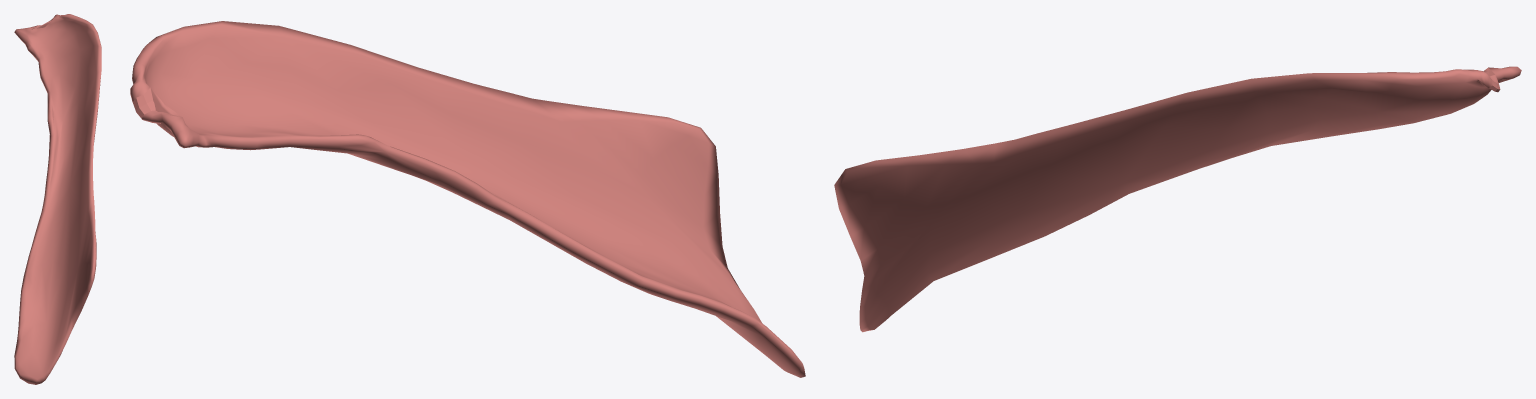
The picture shows the model from 3 angles, left to right: view 1: azimuth 30°, elevation 25°; view 2: azimuth 150°, elevation 25°; view 3: azimuth 270°, elevation 25°; orthographic projection. The views are drawn at different scales.
Parts seen in each view (by area): view 1: ZA_7021cd3a2443c5ca; view 2: ZA_7021cd3a2443c5ca; view 3: ZA_7021cd3a2443c5ca.
Boxes of the visible parts, left/top/right/bottom form: ZA_7021cd3a2443c5ca: left=14, top=14, right=101, bottom=384; ZA_7021cd3a2443c5ca: left=130, top=21, right=805, bottom=377; ZA_7021cd3a2443c5ca: left=834, top=66, right=1521, bottom=332.
Bounding box in the file's own units: 0.0169 × 0.0176 × 0.025.
